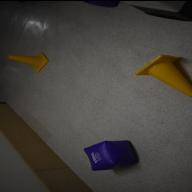cone: (133, 53, 192, 96), (7, 52, 49, 72)
cube: (84, 138, 138, 170), (82, 0, 120, 7)
